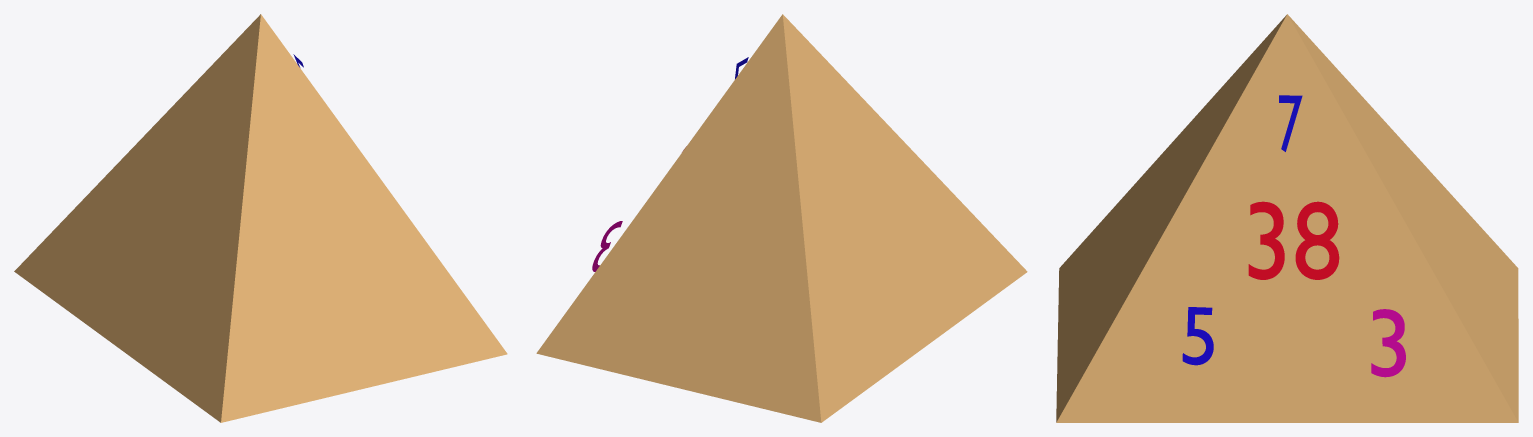
3 views of the same model, side by side, from view 1: azimuth 30°, elevation 25°; view 2: azimuth 150°, elevation 25°; view 3: azimuth 270°, elevation 25° (orthographic). The views are drawn at different scales.
Visible parts, largest first — view 1: Cube; view 2: Cube; view 3: Cube, Text, Text.003, Text.002, Text.001.
Part boxes in pixels (box(x1,y1,x2,y2)): Cube: box(14, 14, 507, 422); Cube: box(536, 14, 1027, 422); Cube: box(1056, 14, 1518, 422); Text: box(1248, 201, 1339, 279); Text.003: box(1371, 309, 1405, 377); Text.002: box(1182, 307, 1213, 365); Text.001: box(1279, 95, 1302, 151).
Size of the model in its own units: 200 by 200 by 253.
